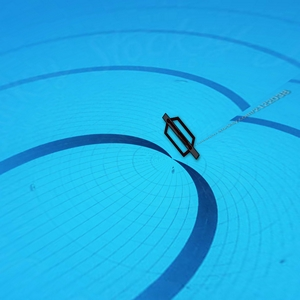submarine: (163, 114, 200, 156)
